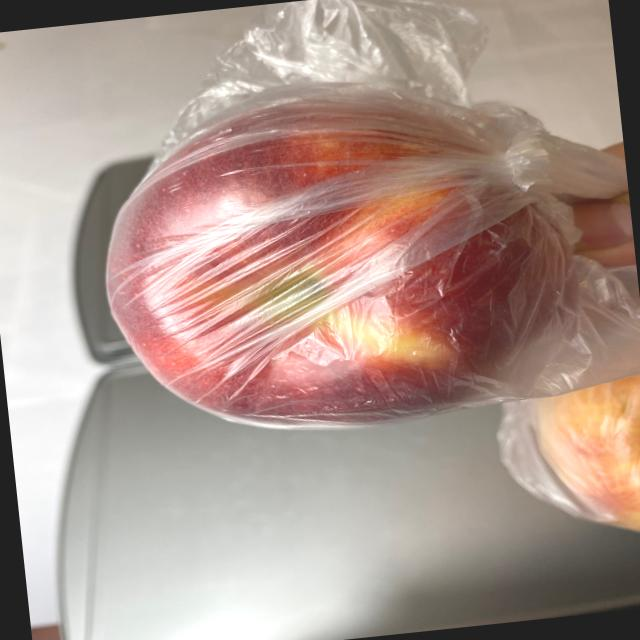apple: (85, 28, 640, 592)
